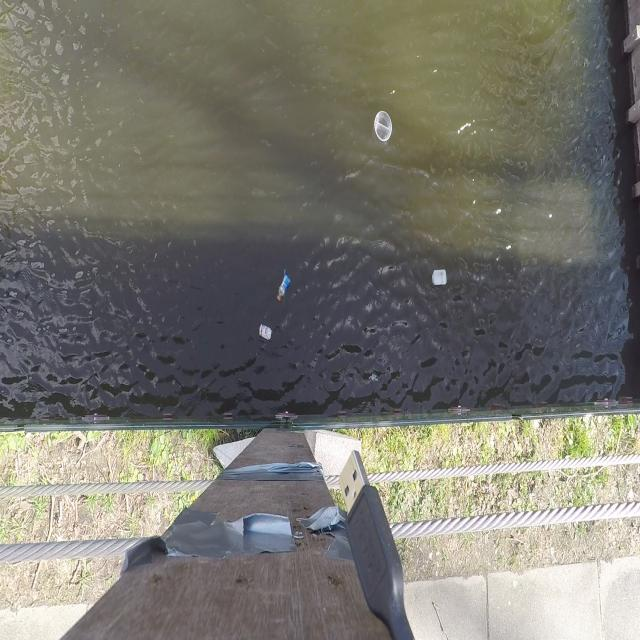Autre plastique: (368, 110, 394, 145)
Bouteille plastique: (274, 272, 292, 304)
Non plastique: (254, 320, 276, 346)
